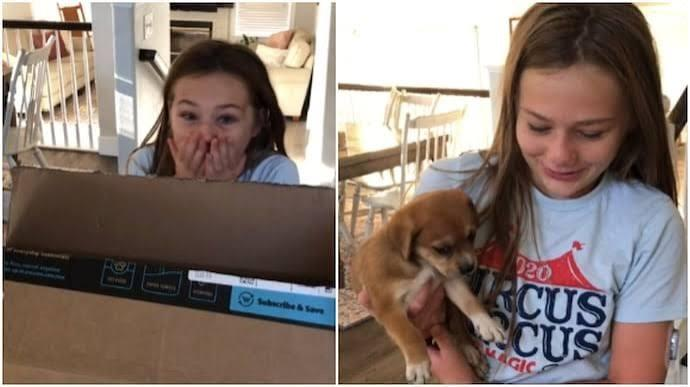non-dog: (403, 1, 687, 387), (127, 42, 301, 186)
puppy-dog: (348, 190, 508, 383)
